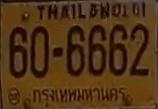0: (30, 26, 49, 76)
2: (130, 24, 148, 76)
6: (108, 24, 127, 75), (8, 26, 26, 77), (66, 26, 84, 76), (87, 24, 105, 74)
BKK: (28, 84, 129, 108)
